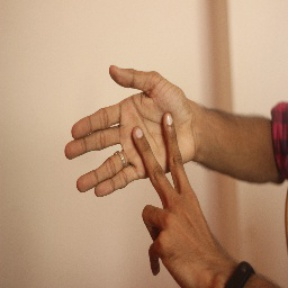N: (60, 62, 221, 252)
